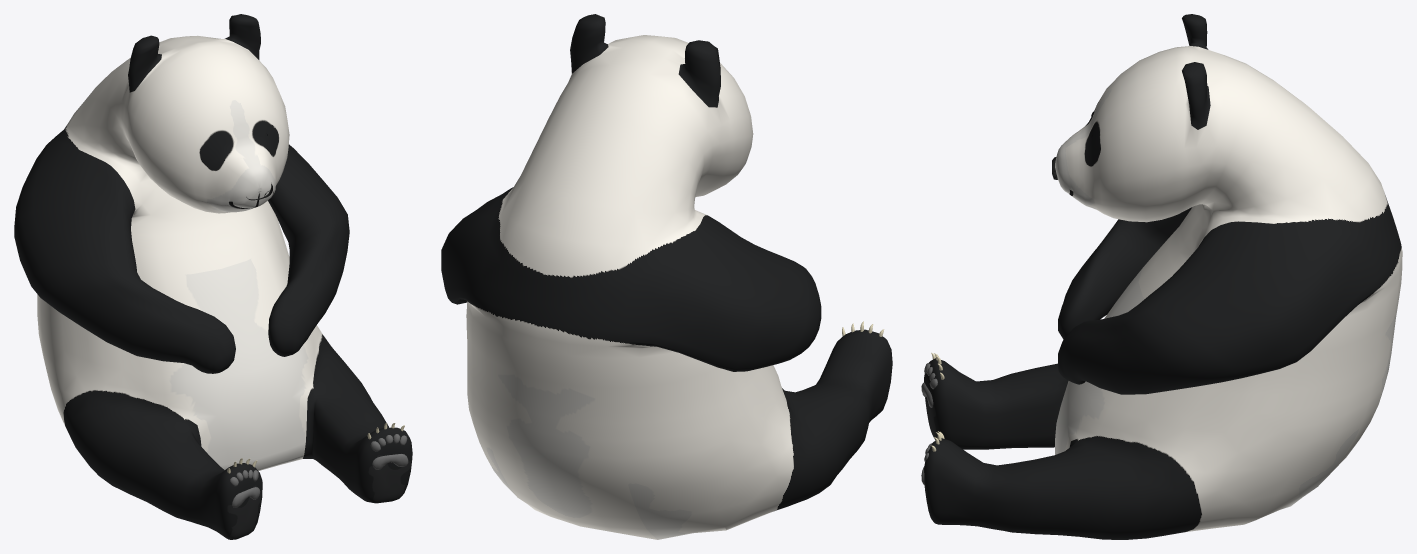
File: realistic_pandasitting (1).glb
3 renders of one model, left to right at view 1: azimuth 30°, elevation 25°; view 2: azimuth 150°, elevation 25°; view 3: azimuth 270°, elevation 25°, orthographic. The views are drawn at different scales.
Visible parts, largest first — view 1: Cylinder.001; view 2: Cylinder.001; view 3: Cylinder.001.
Boxes of the visible parts, x1,y1,x2,y2 form: Cylinder.001: (14,14,412,539); Cylinder.001: (441,14,892,539); Cylinder.001: (921,14,1402,539).
Bounding box in the file's own units: 2.4 × 3.12 × 3.08.
3 materials, 1 textured.
